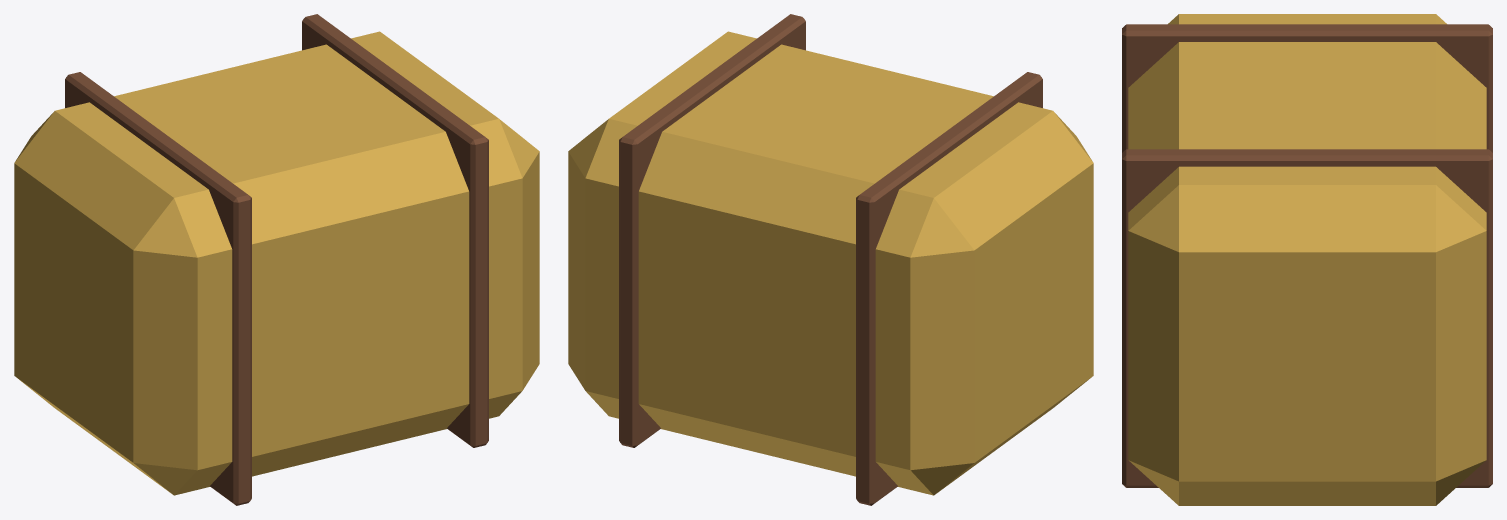
The model's file is hay.glb.
3 renders of one model, left to right at view 1: azimuth 30°, elevation 25°; view 2: azimuth 150°, elevation 25°; view 3: azimuth 270°, elevation 25°, orthographic. The views are drawn at different scales.
Parts seen in each view (by area): view 1: hay.001; view 2: hay.001; view 3: hay.001.
Part boxes in pixels (left/top/right/bottom): hay.001: left=14, top=14, right=539, bottom=505; hay.001: left=568, top=14, right=1093, bottom=505; hay.001: left=1122, top=14, right=1492, bottom=505.
Size of the model in its own units: 1.2 by 0.87 by 0.88.
